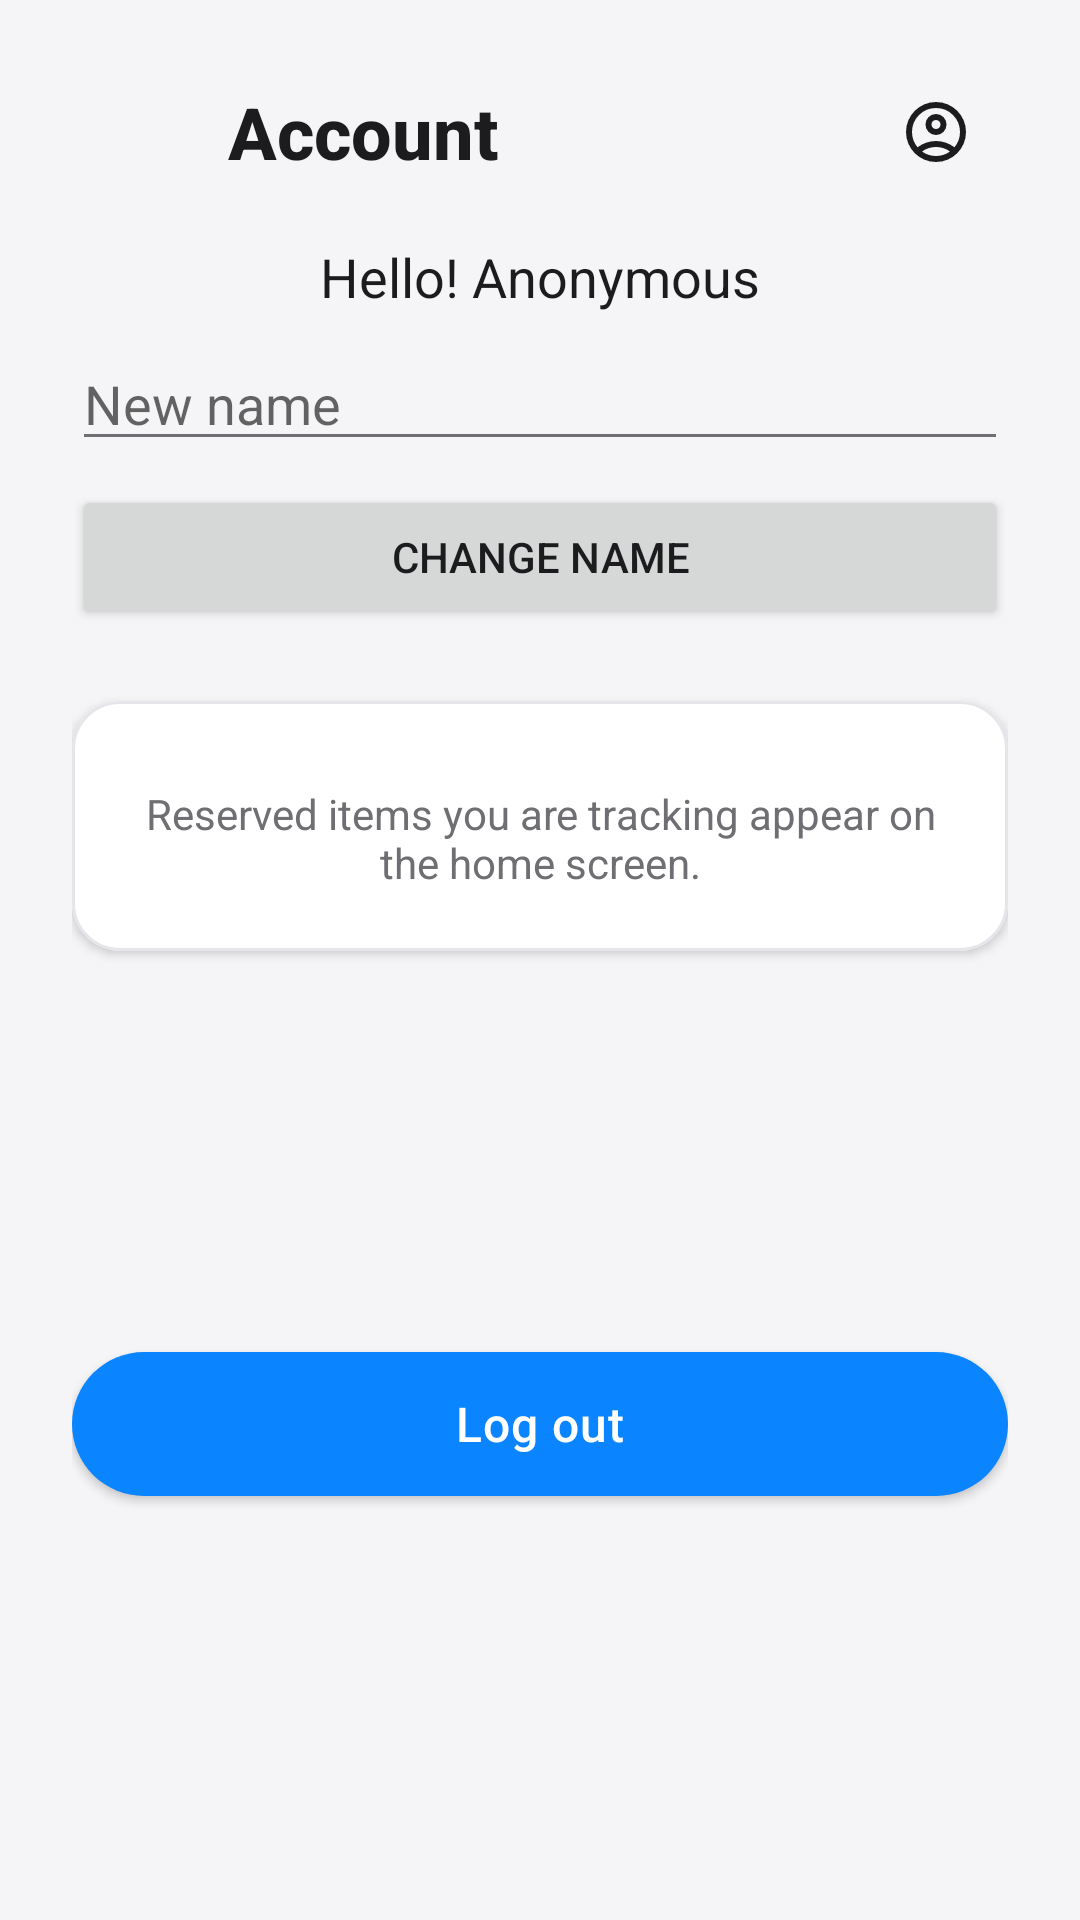

Icons on this 1080*1920 Android screen, each with its box as (left=x1, top=y1, right=x2, bottom=y2):
Profile options: (left=906, top=102, right=966, bottom=162)
